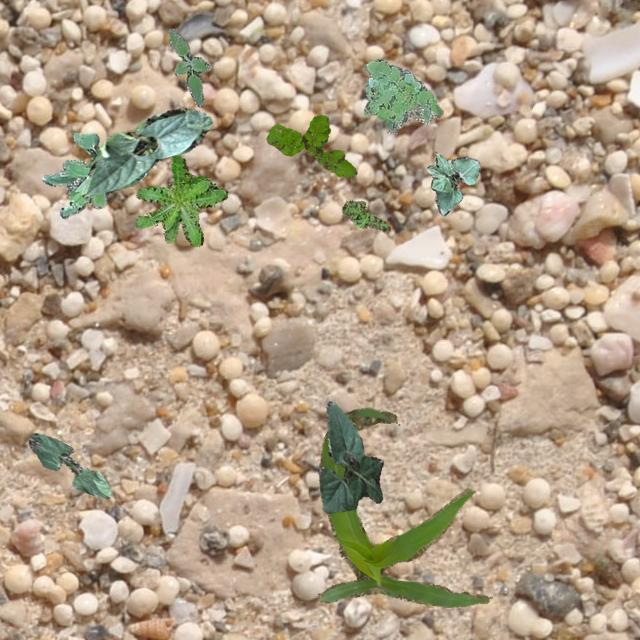crop: (317, 406, 491, 606), (80, 108, 210, 196), (318, 401, 382, 512), (28, 432, 110, 498), (426, 150, 478, 214)
weed: (134, 154, 226, 245), (266, 114, 356, 178), (362, 58, 442, 130), (41, 132, 106, 218), (168, 28, 208, 106), (342, 198, 389, 230)
